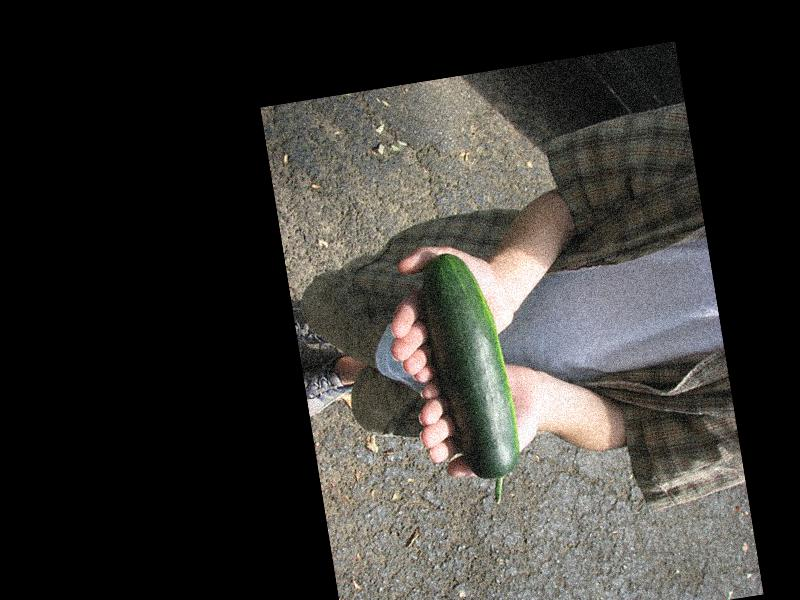Cucumber: (416, 248, 528, 512)
